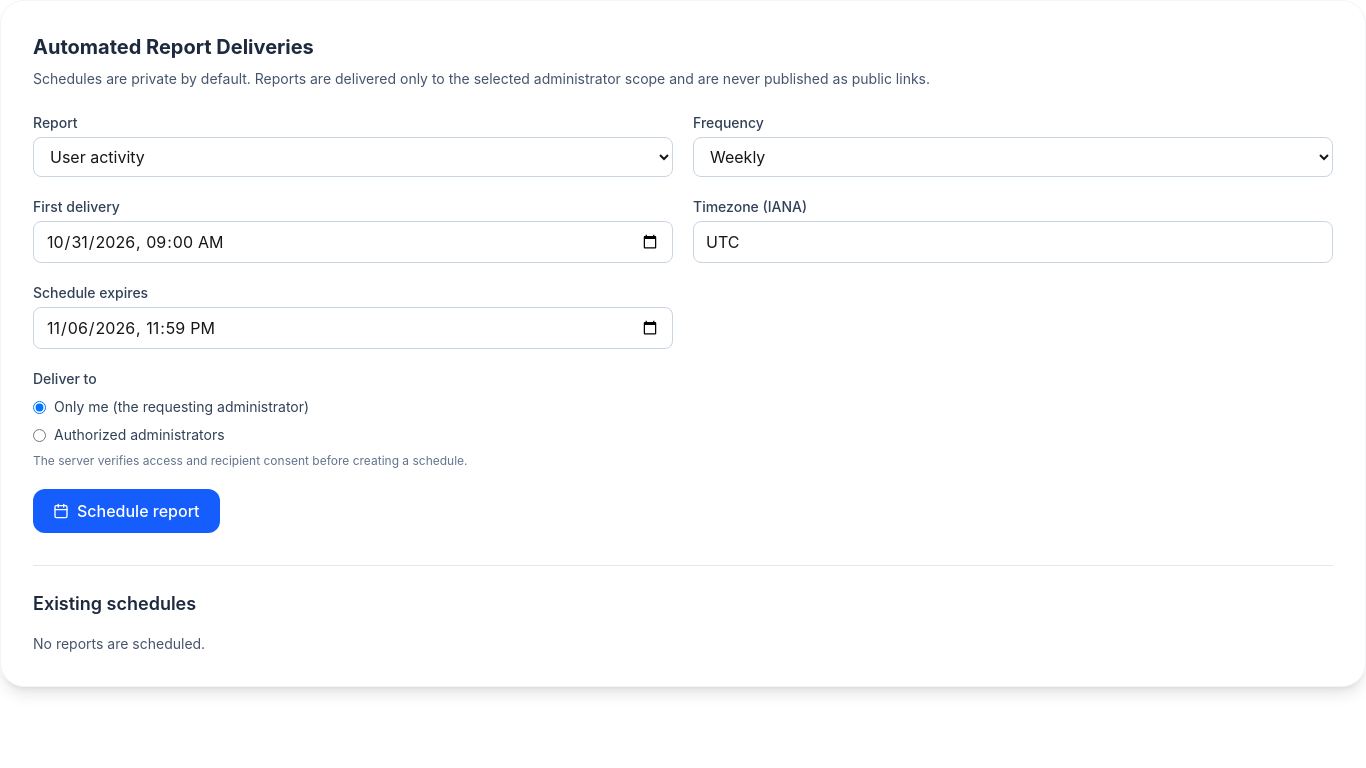
Test: ScheduledReportsPanel › announces a delivery failure and keeps the form available
The image size is (1366, 768).
Expected: the text "No reports are scheduled." is shown, [33, 635, 205, 652]
Click the button "Schedule report".
click(126, 511)  # box [33, 489, 220, 533]
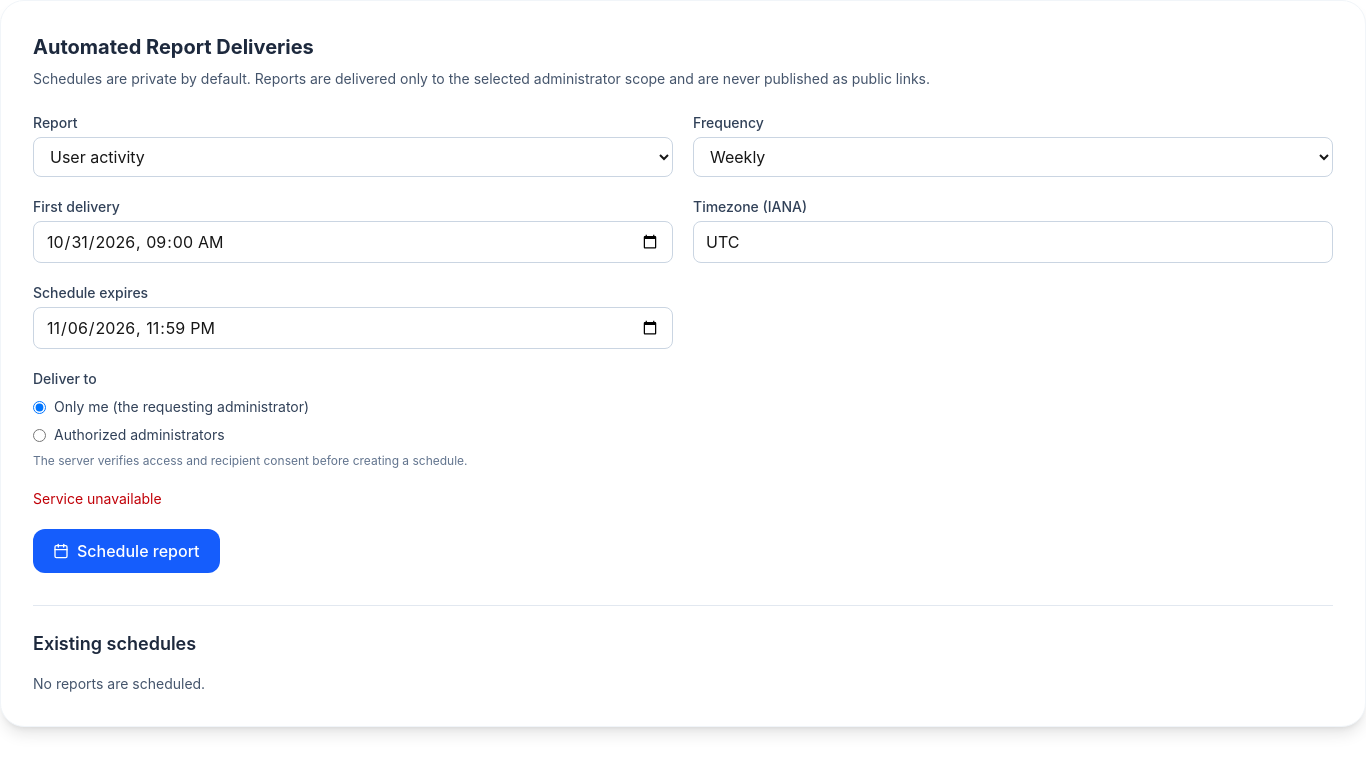
Expected: the button "Schedule report" is enabled, [33, 529, 220, 573]
Expected: the message reads "Service unavailable", [33, 490, 162, 507]
